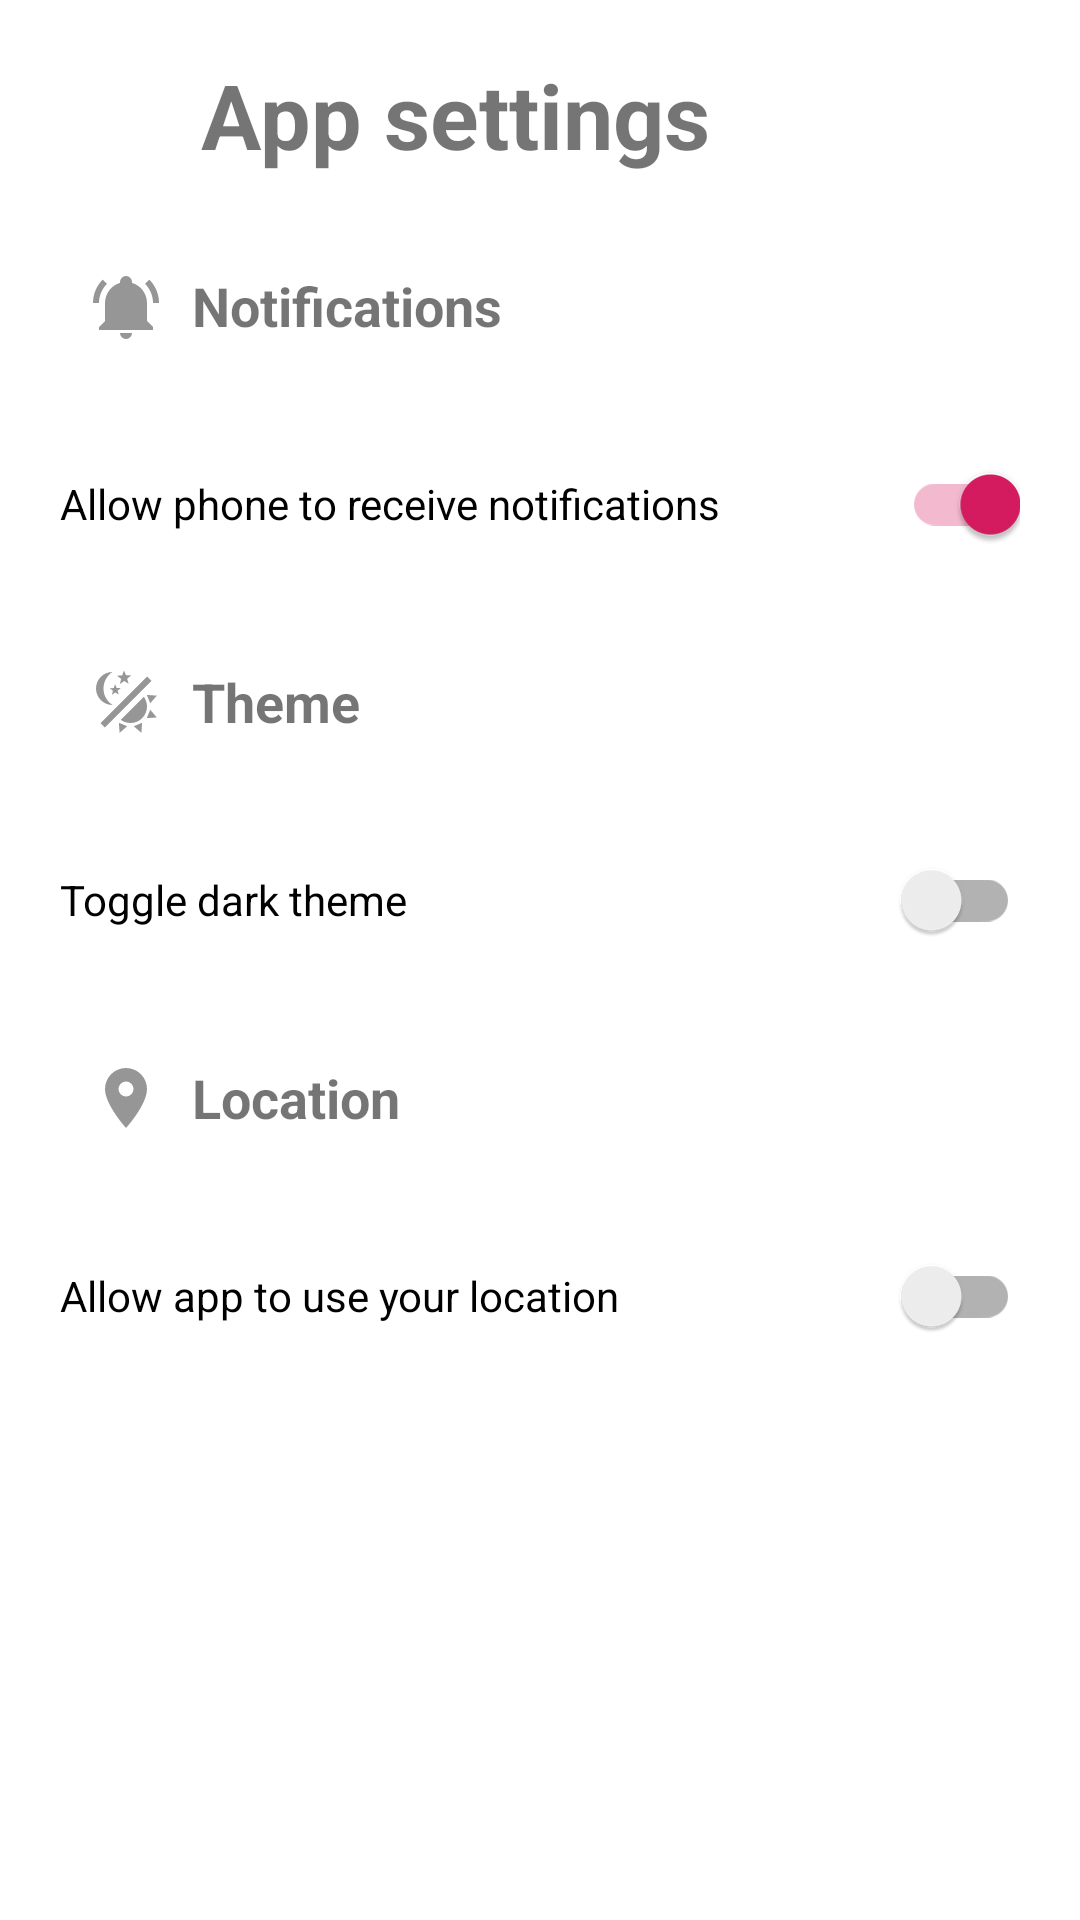

Named icons in this screenshot (1080×1920) and their bounding boxes, (x1, y1, x2, y2):
bell ring: (93, 276, 159, 339)
map marker: (105, 1068, 147, 1128)
